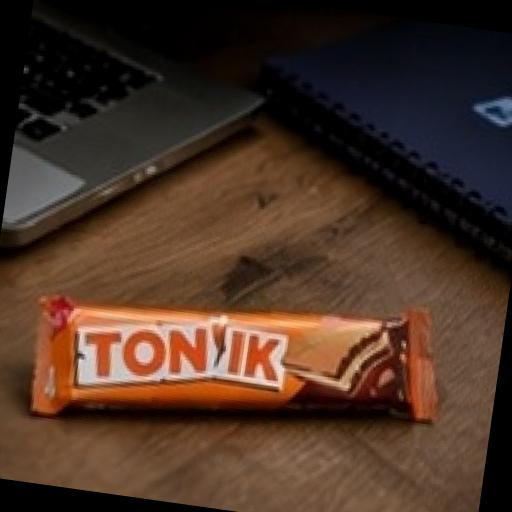tonik: (0, 220, 471, 482)
